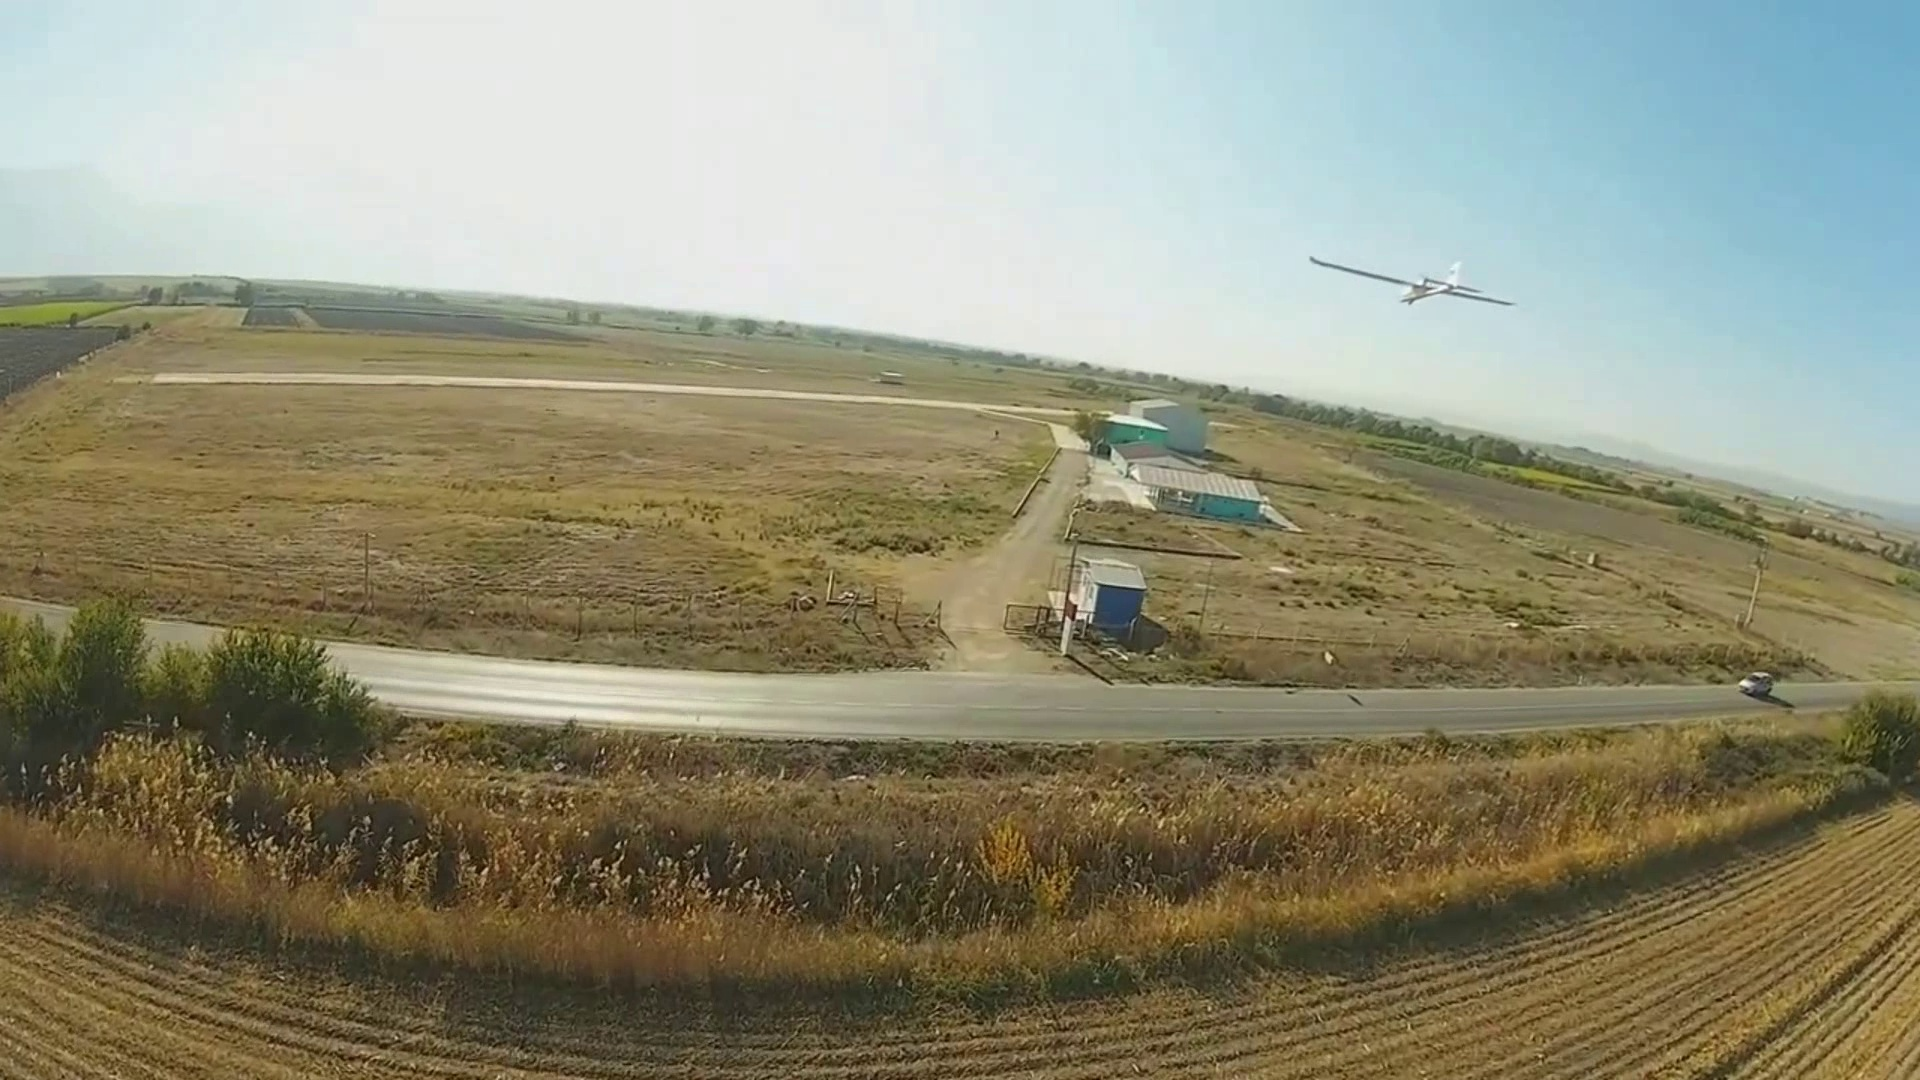airplane: (1307, 252, 1518, 309)
